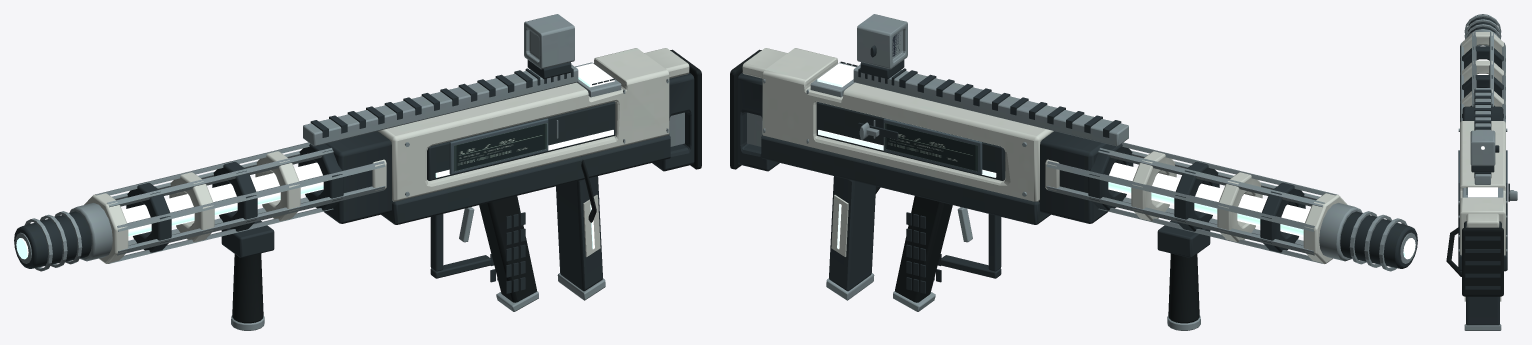
The model's file is rifle-laser.glb.
3 views of the same model, side by side, from view 1: azimuth 30°, elevation 25°; view 2: azimuth 150°, elevation 25°; view 3: azimuth 270°, elevation 25° (orthographic). The views are drawn at different scales.
Parts seen in each view (by area): view 1: rifle-laser_HandheldFinish, rifle-laser_Mint; view 2: rifle-laser_HandheldFinish, rifle-laser_Mint; view 3: rifle-laser_HandheldFinish, rifle-laser_Mint.
Boxes of the visible parts, x1,y1,x2,y2 form: rifle-laser_HandheldFinish: (14, 14, 701, 330); rifle-laser_Mint: (16, 63, 614, 259); rifle-laser_HandheldFinish: (730, 14, 1417, 330); rifle-laser_Mint: (817, 63, 1415, 259); rifle-laser_HandheldFinish: (1446, 14, 1517, 330); rifle-laser_Mint: (1463, 45, 1501, 297).
Bounding box in the file's own units: 0.7734 × 0.3031 × 0.1048.
3 materials, 1 textured.
